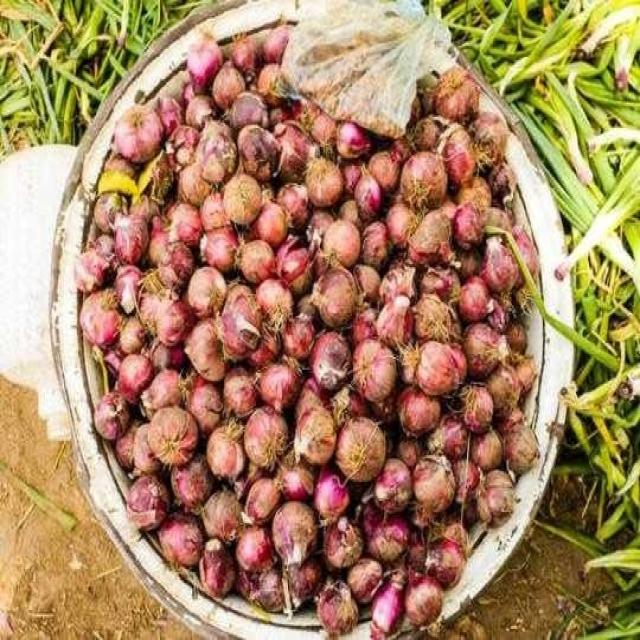onion: (334, 417, 389, 488), (290, 398, 336, 471), (147, 406, 200, 468), (275, 499, 320, 572), (412, 454, 458, 522), (415, 341, 468, 397), (181, 25, 224, 92), (244, 406, 288, 471), (217, 297, 261, 362), (410, 296, 461, 349), (319, 267, 361, 330), (80, 291, 124, 351), (159, 513, 205, 569), (206, 424, 248, 484), (219, 170, 262, 228), (435, 68, 481, 122), (461, 324, 506, 379), (411, 207, 452, 267), (310, 332, 351, 392), (125, 471, 164, 534), (362, 346, 398, 414), (371, 297, 416, 351), (481, 232, 520, 294), (370, 572, 409, 634), (109, 210, 149, 270), (366, 517, 409, 572), (136, 146, 174, 208), (409, 150, 448, 210), (372, 458, 413, 515), (199, 538, 237, 598), (247, 561, 289, 615), (320, 517, 363, 569), (314, 583, 357, 635), (303, 157, 345, 210), (451, 188, 486, 251), (254, 362, 298, 412), (219, 370, 261, 422), (192, 322, 229, 381), (234, 237, 278, 286), (129, 102, 166, 160), (427, 528, 468, 580), (438, 134, 476, 190), (315, 466, 351, 525), (496, 419, 536, 472), (205, 487, 245, 540), (200, 130, 240, 183), (406, 577, 444, 632), (481, 477, 518, 533), (256, 276, 293, 332), (172, 458, 210, 512), (190, 267, 228, 321), (410, 387, 446, 443), (240, 473, 278, 526), (120, 424, 158, 477), (239, 125, 280, 174), (234, 525, 274, 575), (322, 220, 363, 268), (344, 559, 385, 607), (473, 133, 508, 188), (359, 167, 391, 226), (188, 381, 226, 430), (211, 65, 246, 118), (460, 381, 495, 434), (290, 556, 326, 607), (275, 235, 313, 283), (288, 305, 319, 362), (152, 234, 190, 280), (115, 351, 153, 396), (92, 190, 128, 237), (459, 273, 492, 324), (281, 125, 310, 183), (337, 120, 373, 166), (95, 392, 128, 442), (345, 264, 380, 311), (292, 240, 324, 291), (146, 372, 183, 416), (171, 119, 207, 164), (213, 229, 246, 278), (233, 95, 274, 134), (171, 160, 204, 208), (474, 430, 506, 479), (345, 311, 374, 365), (382, 266, 417, 310), (168, 206, 205, 247), (277, 465, 313, 507), (181, 90, 217, 131), (386, 201, 414, 253), (504, 356, 537, 400), (421, 267, 461, 303), (110, 116, 140, 164), (79, 245, 108, 294), (150, 341, 188, 378), (491, 363, 516, 419), (258, 206, 292, 247), (372, 146, 403, 190), (359, 220, 388, 267), (406, 114, 439, 155), (473, 98, 506, 139), (199, 193, 232, 234), (120, 266, 147, 316), (114, 318, 148, 357), (264, 24, 294, 68), (158, 96, 184, 146), (312, 104, 339, 152), (282, 182, 315, 220), (160, 300, 186, 348), (267, 65, 295, 109), (501, 318, 529, 362), (306, 206, 334, 248), (454, 471, 481, 513), (483, 286, 511, 326), (147, 267, 173, 310), (231, 32, 258, 72), (444, 422, 469, 463)
